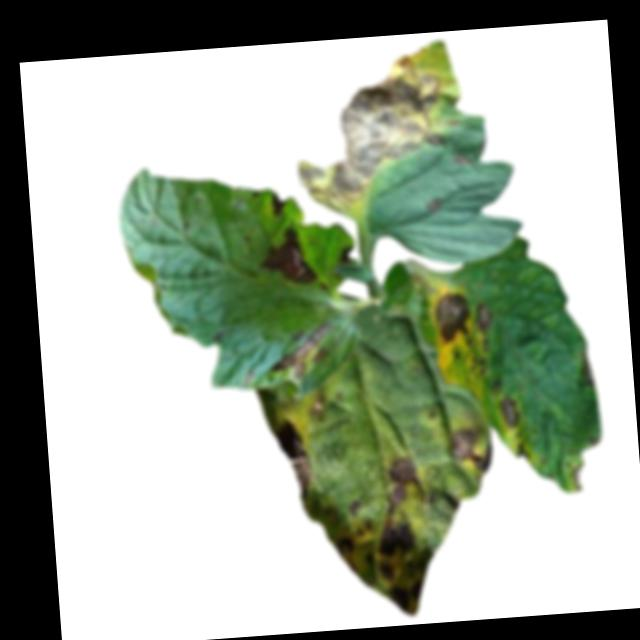Early_blight: (288, 49, 451, 207), (331, 513, 439, 622), (255, 221, 322, 289), (269, 320, 336, 379), (274, 417, 317, 506), (431, 287, 476, 351), (383, 450, 423, 510), (446, 420, 491, 473), (499, 392, 524, 429), (307, 386, 330, 424), (475, 298, 496, 333), (577, 348, 594, 387), (268, 189, 288, 216), (572, 457, 587, 493), (423, 199, 446, 215), (341, 242, 357, 263), (516, 439, 532, 460), (451, 152, 473, 167)
